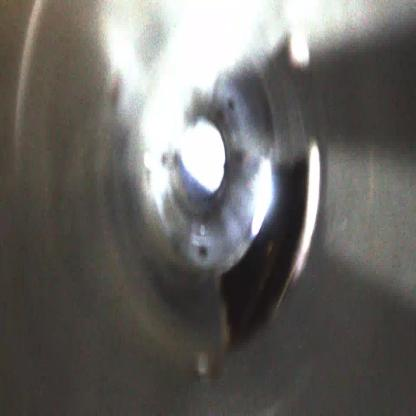Crack2: (217, 154, 311, 352)
